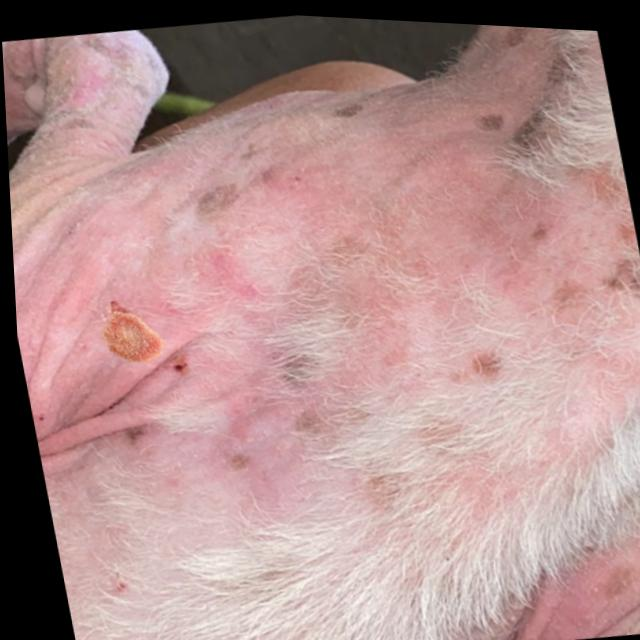ringworm: (60, 255, 198, 393)
